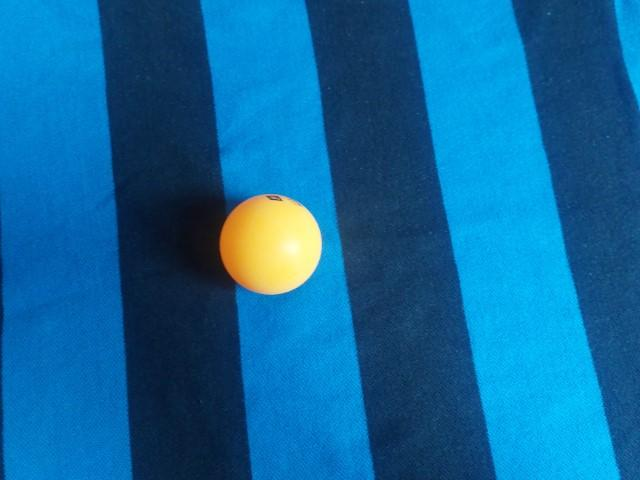oball: (312, 179, 429, 294)
